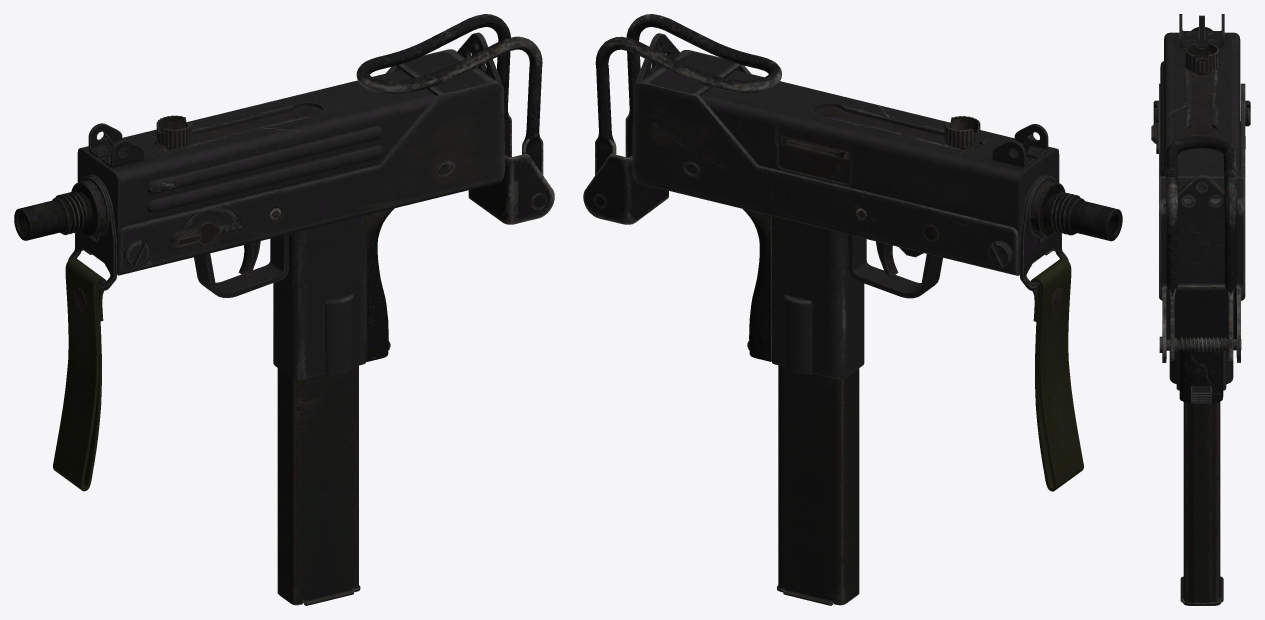
Rendered from weapon_mac10.glb.
3 views of the same model, side by side, from view 1: azimuth 30°, elevation 25°; view 2: azimuth 150°, elevation 25°; view 3: azimuth 270°, elevation 25° (orthographic). The views are drawn at different scales.
Parts seen in each view (by area): view 1: main_frame_mac10, magazine_mac10, grip_mac10, stock_mac10, barrel_mac10, front_sight_mac10; view 2: main_frame_mac10, magazine_mac10, grip_mac10, stock_mac10, barrel_mac10, front_sight_mac10; view 3: main_frame_mac10, stock_mac10, magazine_mac10, grip_mac10, front_sight_mac10.
Boxes of the visible parts, <box> form: main_frame_mac10: <box>53,32,505,491</box>; magazine_mac10: <box>277,365,360,605</box>; grip_mac10: <box>273,208,394,379</box>; stock_mac10: <box>356,14,554,224</box>; barrel_mac10: <box>14,180,106,240</box>; front_sight_mac10: <box>88,123,144,167</box>; main_frame_mac10: <box>632,33,1083,491</box>; magazine_mac10: <box>777,365,859,605</box>; grip_mac10: <box>743,209,864,379</box>; stock_mac10: <box>583,14,781,224</box>; barrel_mac10: <box>1030,181,1122,241</box>; front_sight_mac10: <box>992,124,1048,168</box>; main_frame_mac10: <box>1151,32,1250,300</box>; stock_mac10: <box>1159,136,1241,362</box>; magazine_mac10: <box>1180,391,1223,605</box>; grip_mac10: <box>1169,350,1233,404</box>; front_sight_mac10: <box>1179,14,1224,48</box>.
Bounding box in the file's own units: 32.31 × 31.64 × 5.76.
Materials: 1 (1 with a texture image).
